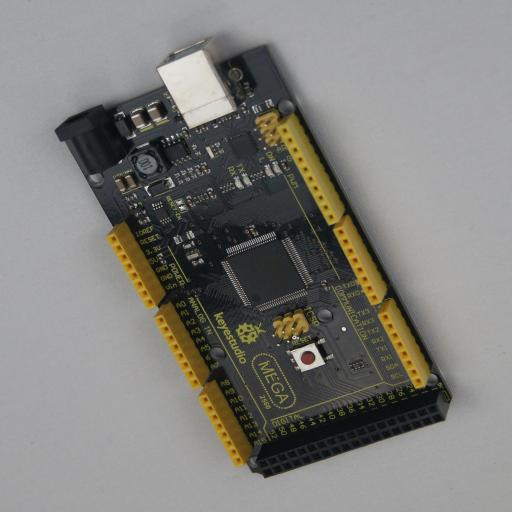Arduino Mega 2560 -Black and Yellow-: (54, 38, 452, 478)
